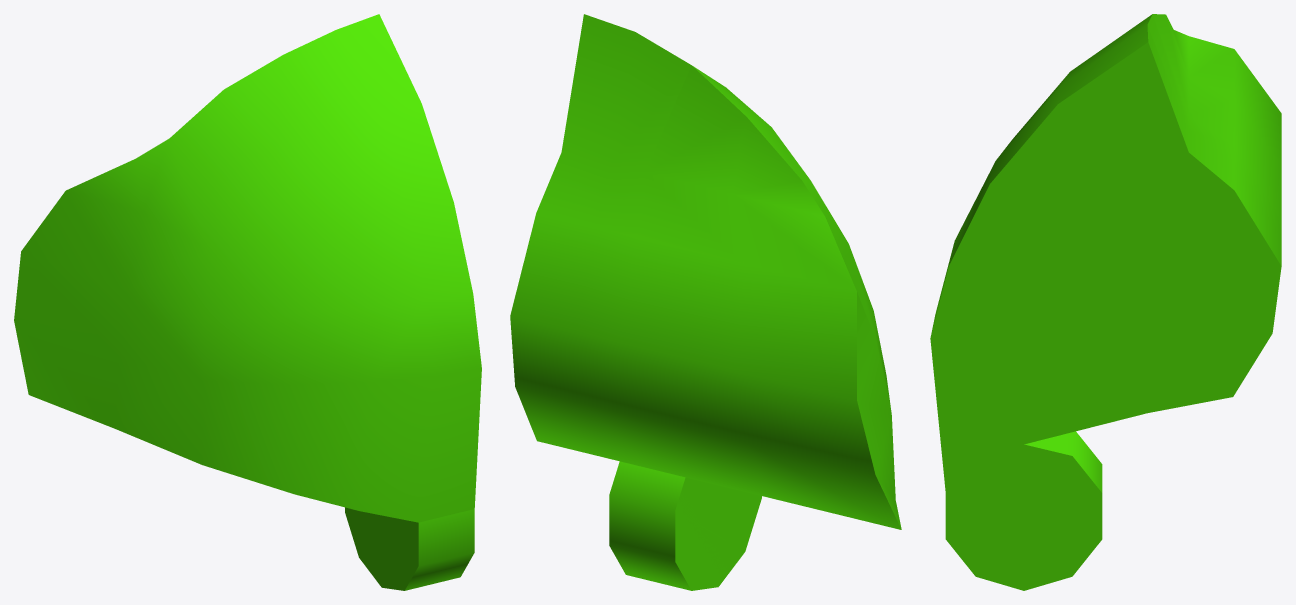
Rendered from Cover.fbx.
3 renders of one model, left to right at view 1: azimuth 30°, elevation 25°; view 2: azimuth 150°, elevation 25°; view 3: azimuth 270°, elevation 25°, orthographic. The views are drawn at different scales.
Parts seen in each view (by area): view 1: Cover; view 2: Cover; view 3: Cover.
Part boxes in pixels (box(x1,y1,x2,y2)): Cover: box(14, 14, 481, 590); Cover: box(510, 14, 901, 590); Cover: box(930, 14, 1281, 590).
Size of the model in its own units: 0.704 by 1.12 by 0.6496.
